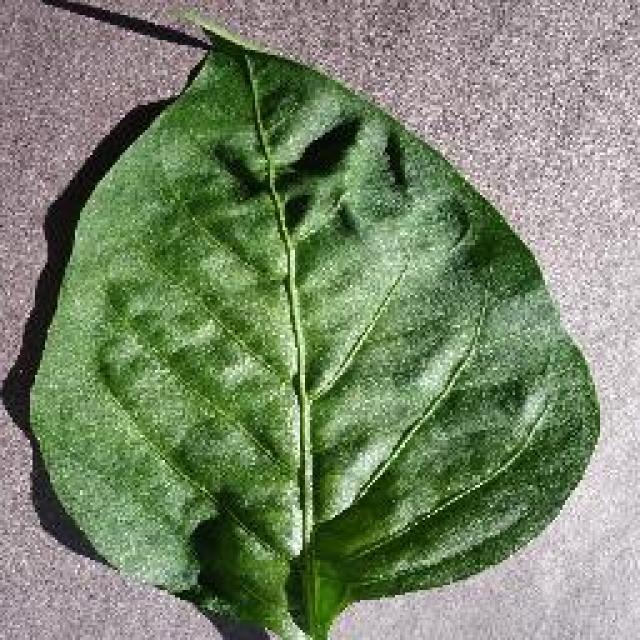Chilli_Healthy: (25, 5, 603, 637)
